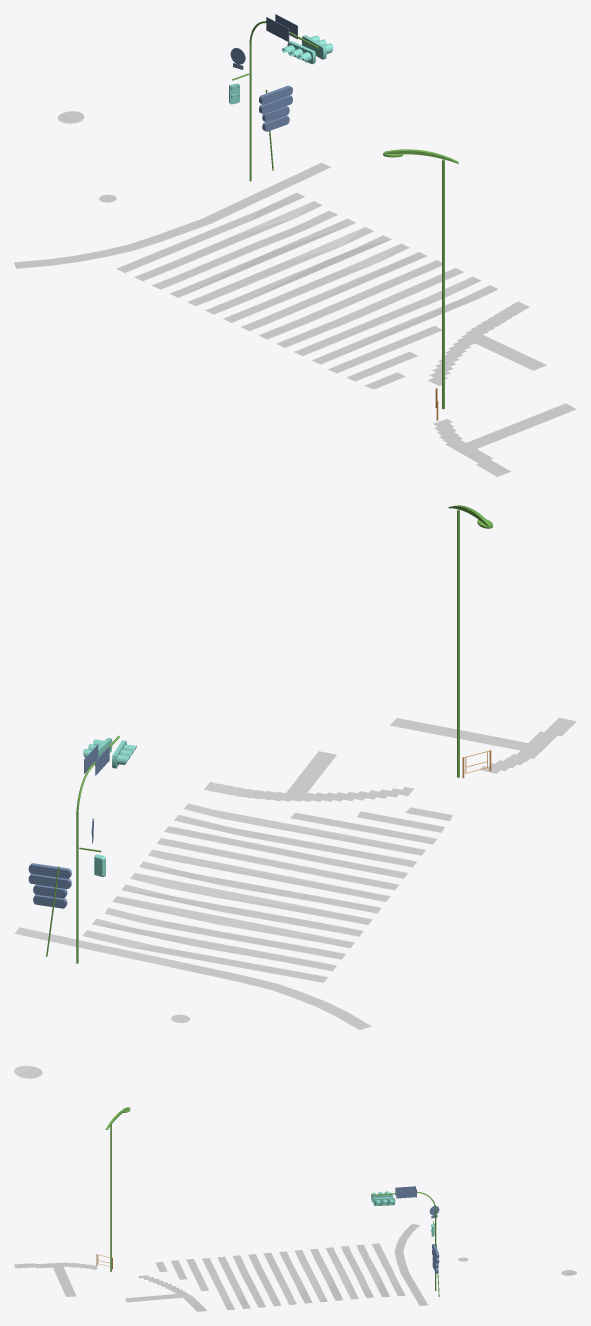
Rendered from data166.glb.
3 views of the same model, one above another, from view 1: azimuth 30°, elevation 25°; view 2: azimuth 150°, elevation 25°; view 3: azimuth 270°, elevation 25° (orthographic). The views are drawn at different scales.
Size of the model in its own units: 12.95 by 9.77 by 32.09.
